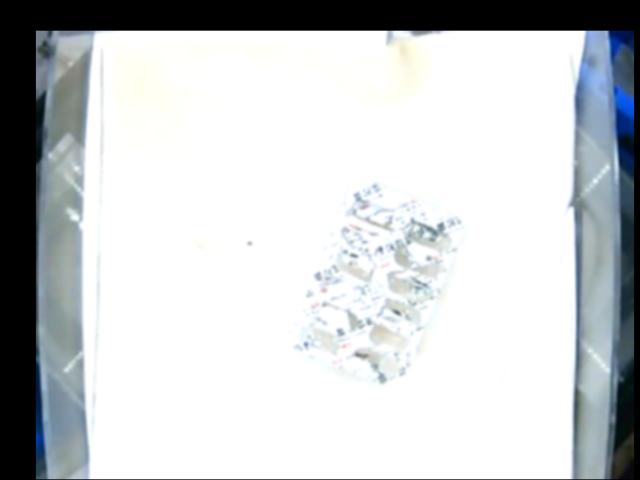Medicine: (288, 177, 462, 385)
